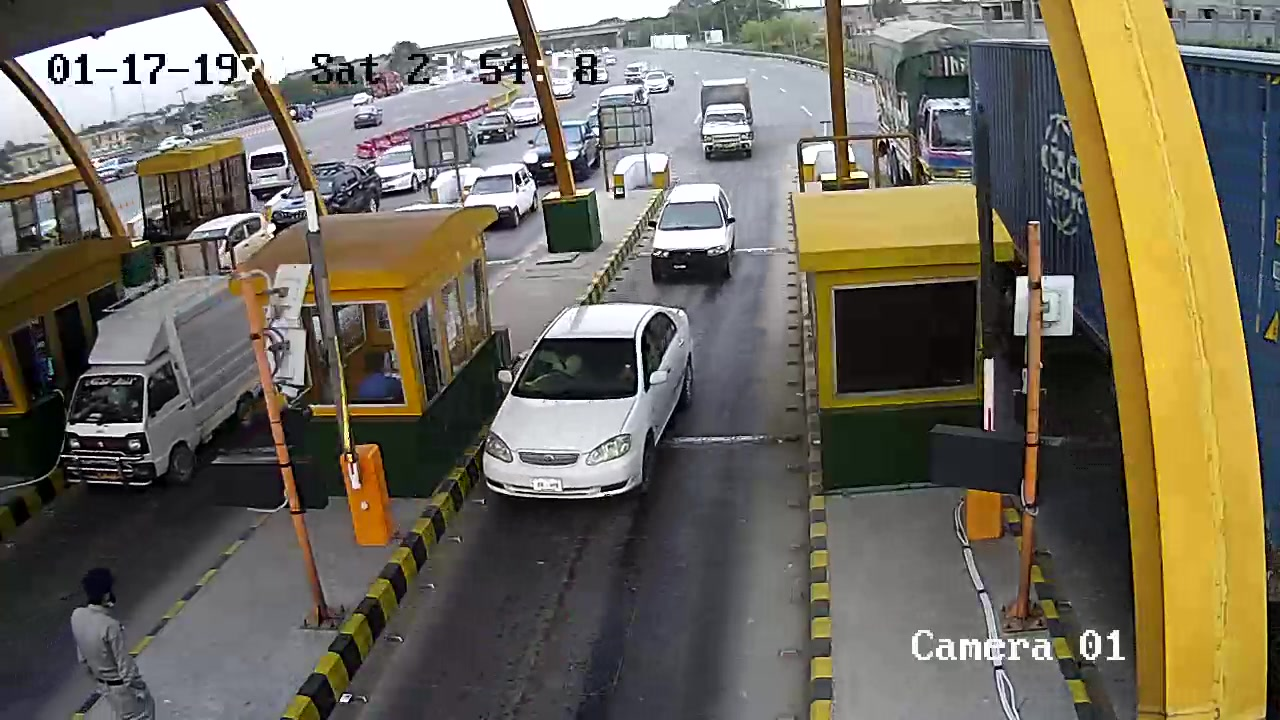F1: (472, 301, 705, 500)
